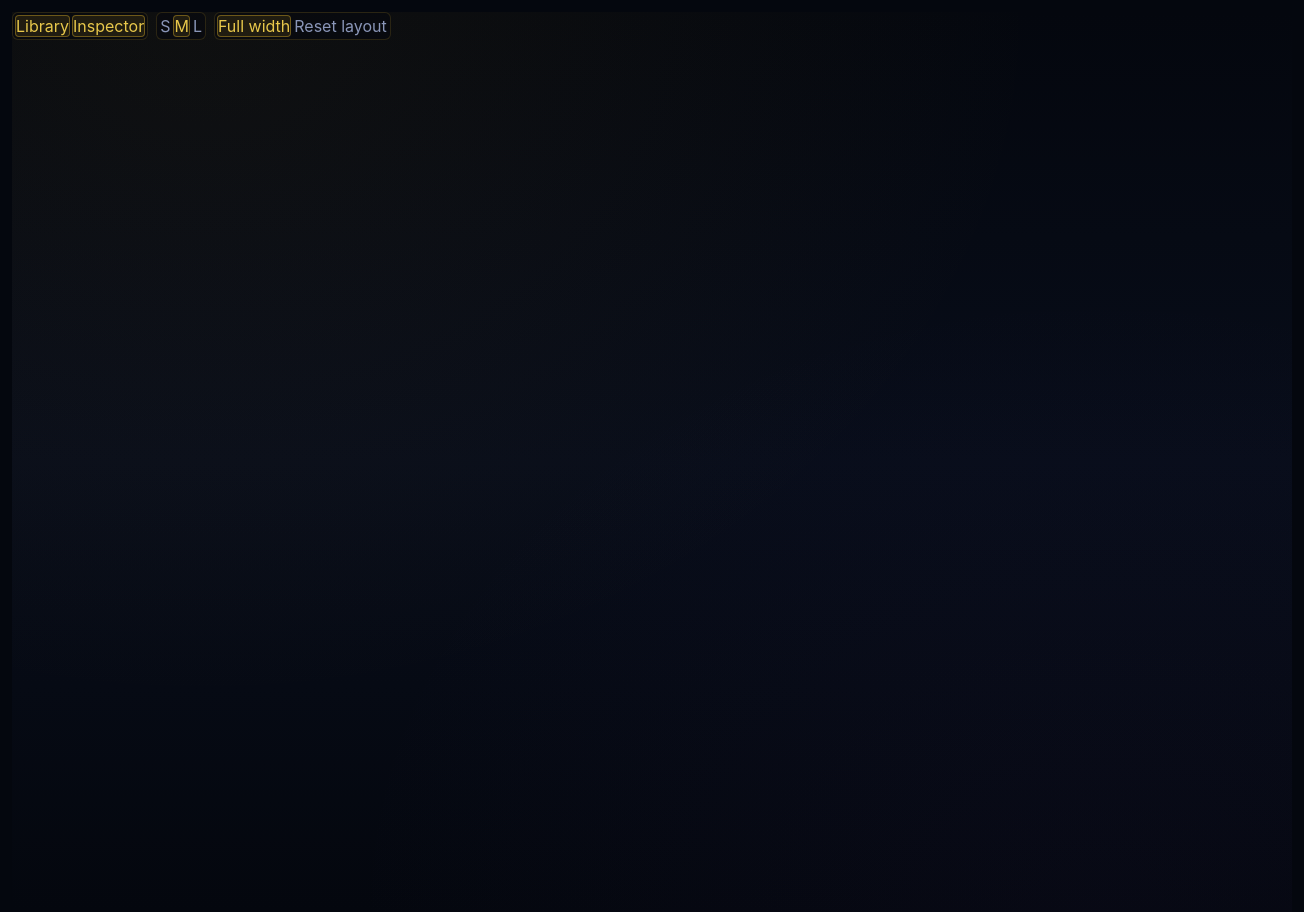
Test: workspace chrome › collapses a side with Enter and brings it back from the rail
Press Enter in the element named "Resize Library panel", box [12,40,1292,88]
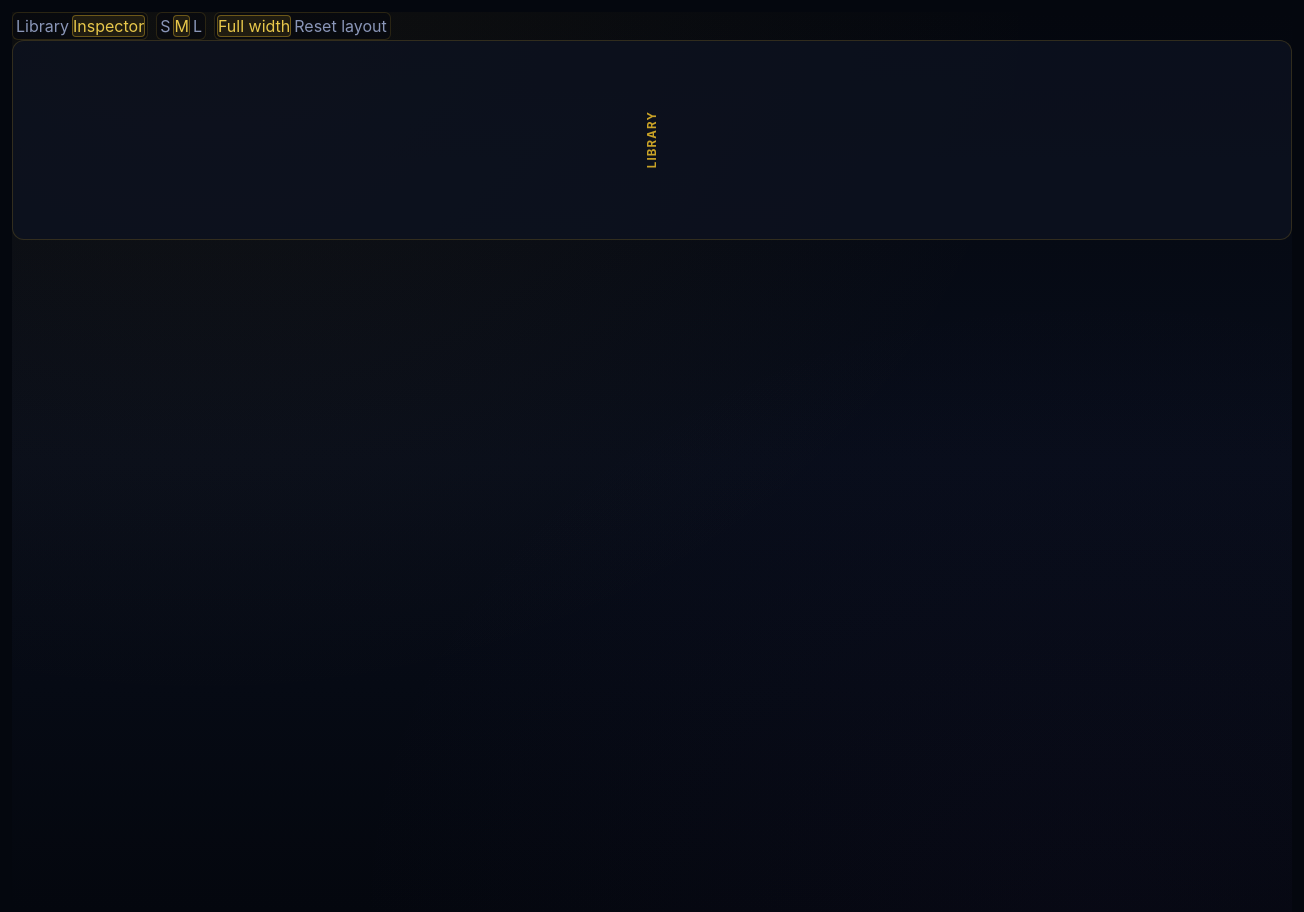
Result: the element showing "Library Inspector S M L Full width Reset layout Library" has attribute data-library-collapsed="true" at [12,12,1292,298]
Click the button with class "workspace-rail" at (652, 140), box [12,40,1292,240]
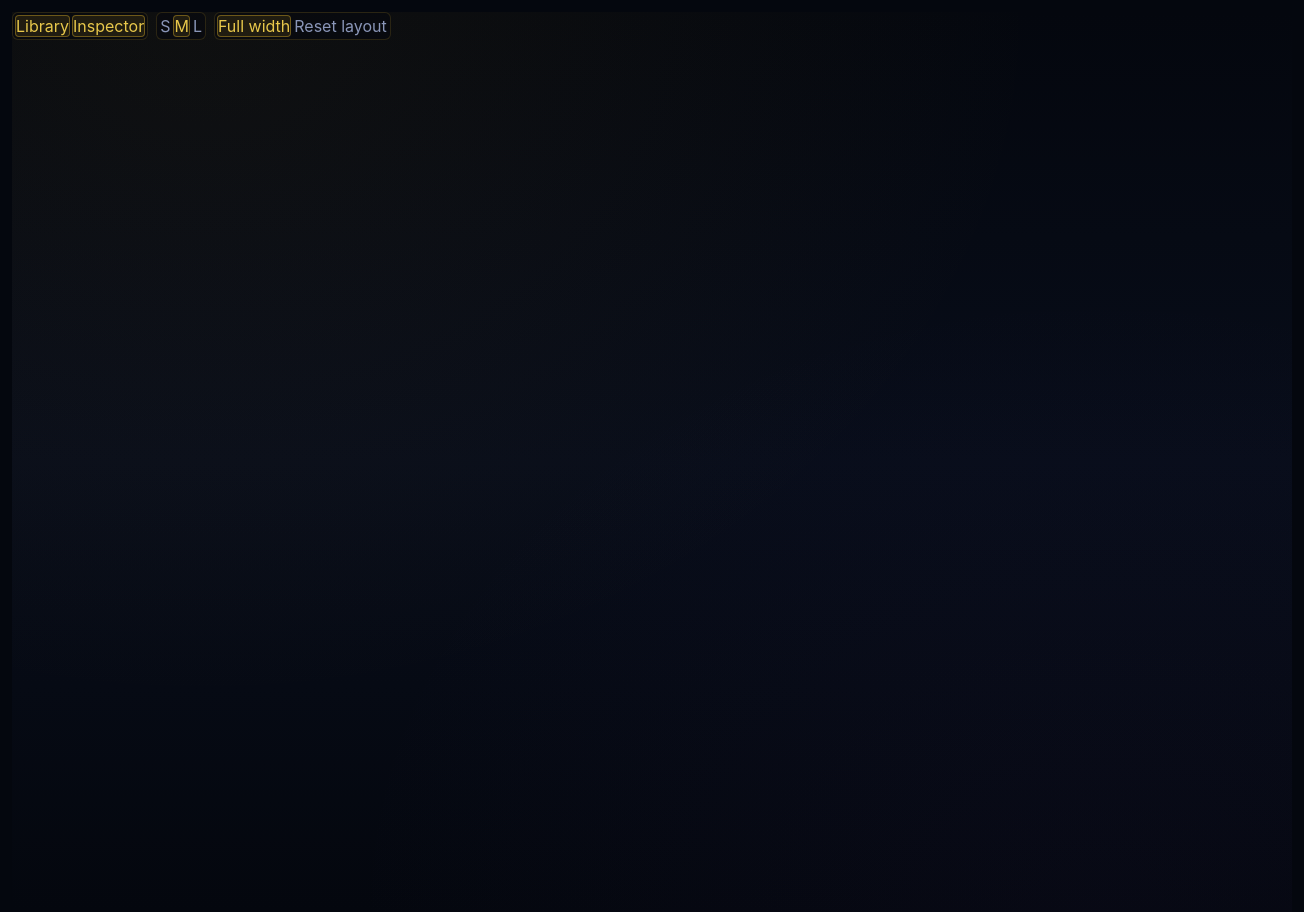
Result: the button with class "workspace-rail" is gone
